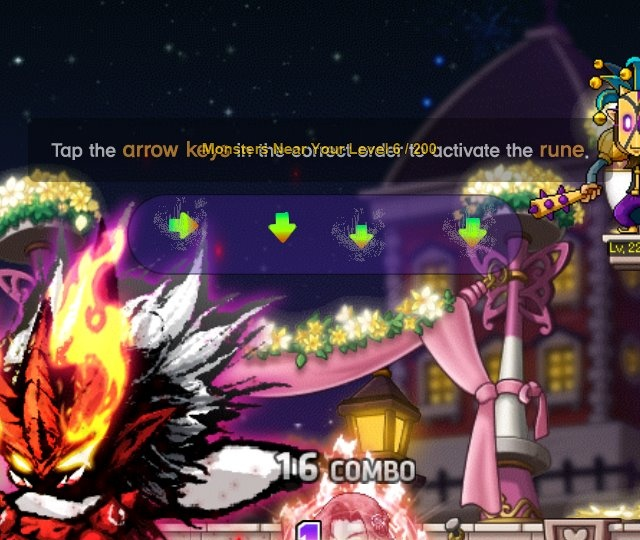down: (261, 204, 303, 253), (450, 209, 493, 255), (345, 218, 381, 256)
right: (161, 205, 204, 245)
